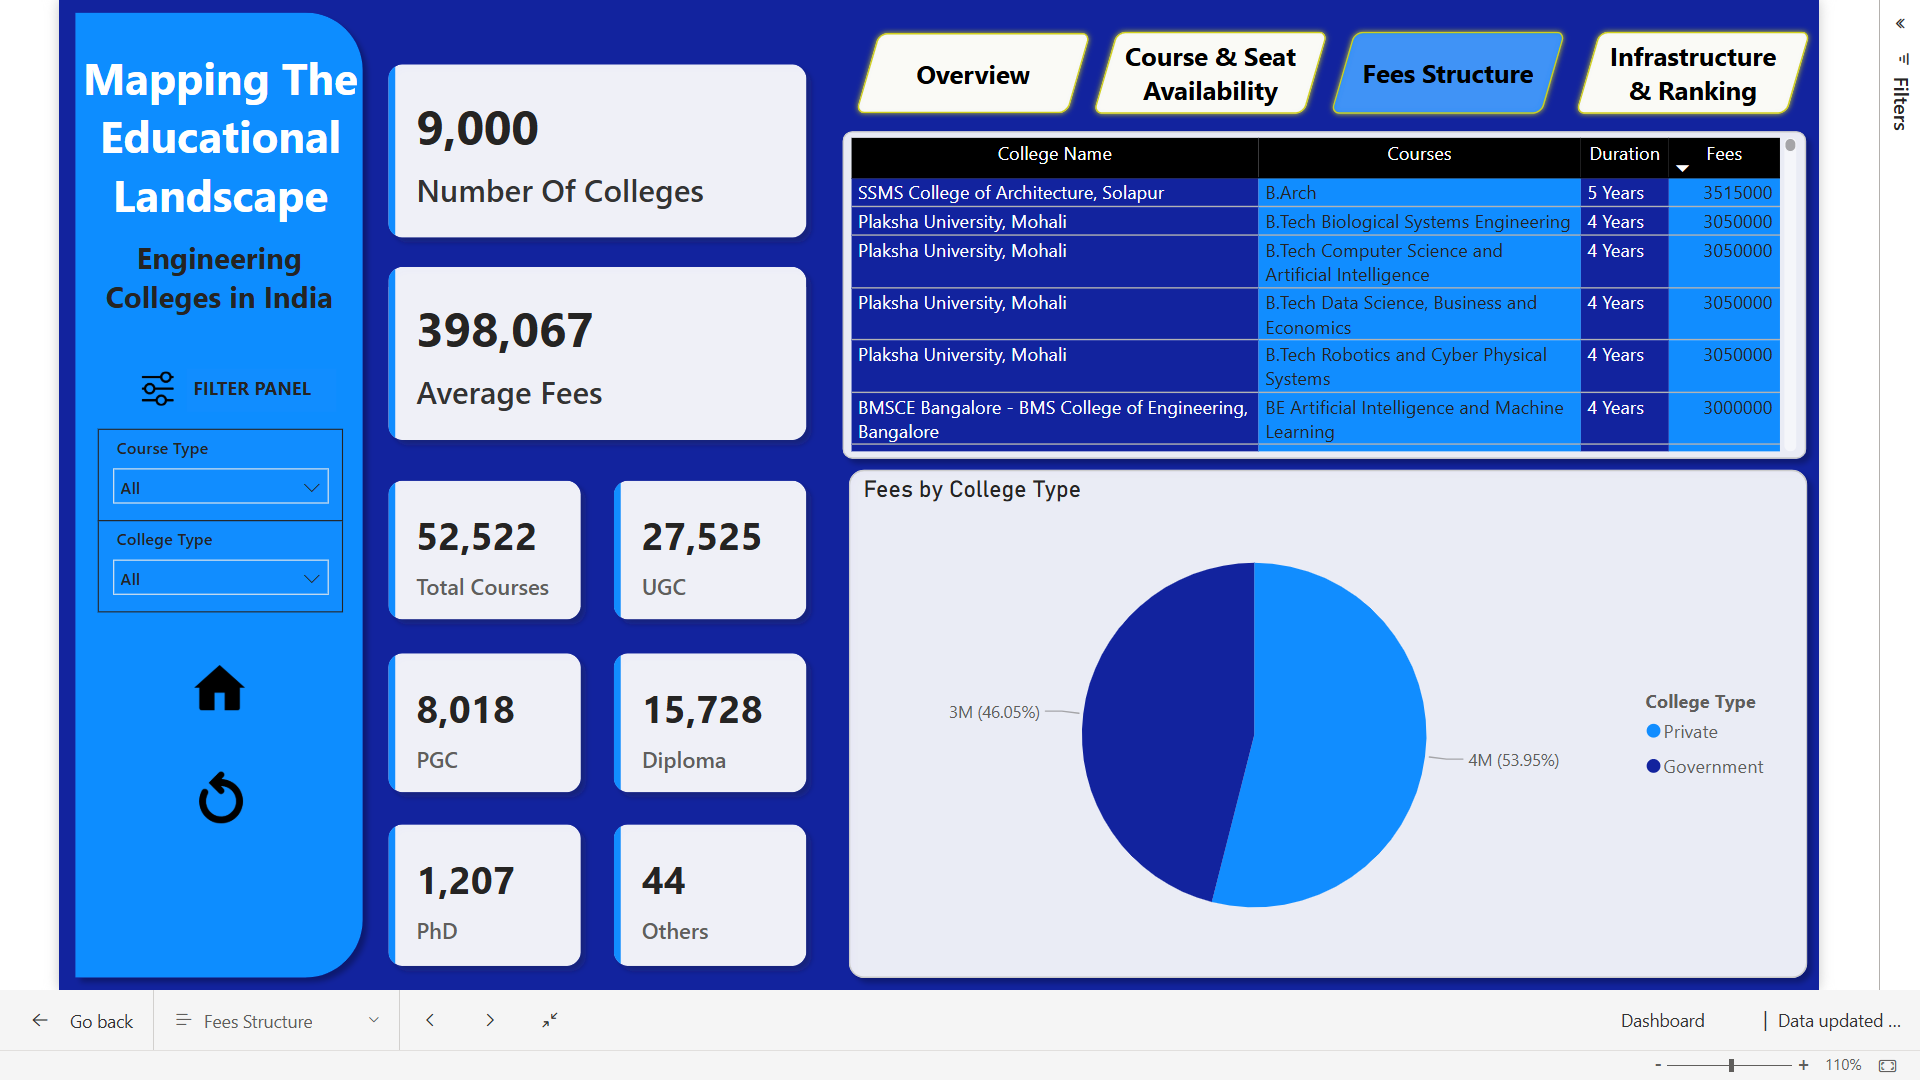

The dashboard page shown, as its layout file describes it:
{"tool":"powerbi","page":{"name":"Fees Structure","canvas":[1280,720],"ordinal":2},"visuals":[{"type":"shape","box":[2.9,0,227.1,720],"z":0},{"type":"textbox","box":[4.3,30,225.7,147.1],"z":1000},{"type":"textbox","box":[24.3,167.1,184.3,82.9],"z":2000},{"type":"cardVisual","fields":{"Data":["College Detail.No of College"]},"box":[222.9,30,338.6,160],"z":3000},{"type":"slicer","fields":{"Values":["College Detail.College Type"]},"box":[28.6,378.6,178.6,67.1],"z":4000},{"type":"image","box":[55.7,265.7,32.9,34.3],"z":5000},{"type":"textbox","box":[92.9,268.6,108.6,31.4],"z":6000},{"type":"image","box":[90,471.2,53.8,58.8],"z":7000},{"type":"image","box":[95,556.2,45,47.5],"z":8000},{"type":"cardVisual","fields":{"Data":["College Detail.Total No Of Courses","College Detail.Under Graduate","College Detail.Post Graduate","College Detail.Diploma"]},"box":[222.9,332.9,338.6,260],"z":9000},{"type":"shape","box":[565,332.5,715,387.5],"z":10000},{"type":"shape","box":[561.2,86.2,718.8,256.2],"z":11000},{"type":"tableEx","fields":{"Values":["Course Detail.College Name","Course Detail.Courses","Course Detail.Duration","Course Detail.Fees"]},"box":[570,95.6,698.9,237.8],"z":12000},{"type":"slicer","fields":{"Values":["Course Detail.Course Type"]},"box":[28.6,311.4,178.6,67.1],"z":13000},{"type":"actionButton","box":[570,18.8,231.2,67.5],"z":14000},{"type":"actionButton","box":[806.2,17.5,231.2,68.8],"z":15000},{"type":"actionButton","box":[1037.5,17.5,231.2,68.8],"z":16000},{"type":"cardVisual","fields":{"Data":["College Detail.PhD","College Detail.Other Courses"]},"box":[222.9,582.9,338.6,137.1],"z":17000},{"type":"cardVisual","fields":{"Data":["College Detail.Average Fees"]},"box":[222.9,177.1,338.6,160],"z":18000},{"type":"pieChart","title":"Fees by College Type","fields":{"Category":["College Detail.College Type"],"Y":["Max(Course Detail.Fees)"]},"box":[580.3,345,676.8,359.5],"z":19000}]}

Visuals, with their boxes on the page's 1280x720 design canvas (x1, y1, x2, y2). These are canvas units, not pixel positions in the 1920x1080 screenshot, which may show the page scaled, cropped or inside an application window:
shape: <box>3,0,230,720</box>
textbox: <box>4,30,230,177</box>
textbox: <box>24,167,209,250</box>
cardVisual - College Detail.No of College: <box>223,30,562,190</box>
slicer - College Detail.College Type: <box>29,379,207,446</box>
image: <box>56,266,89,300</box>
textbox: <box>93,269,202,300</box>
image: <box>90,471,144,530</box>
image: <box>95,556,140,604</box>
cardVisual - College Detail.Total No Of Courses x College Detail.Under Graduate: <box>223,333,562,593</box>
shape: <box>565,332,1280,720</box>
shape: <box>561,86,1280,342</box>
tableEx - Course Detail.College Name x Course Detail.Courses: <box>570,96,1269,333</box>
slicer - Course Detail.Course Type: <box>29,311,207,378</box>
actionButton: <box>570,19,801,86</box>
actionButton: <box>806,18,1037,86</box>
actionButton: <box>1038,18,1269,86</box>
cardVisual - College Detail.PhD x College Detail.Other Courses: <box>223,583,562,720</box>
cardVisual - College Detail.Average Fees: <box>223,177,562,337</box>
"Fees by College Type" pieChart: <box>580,345,1257,704</box>
